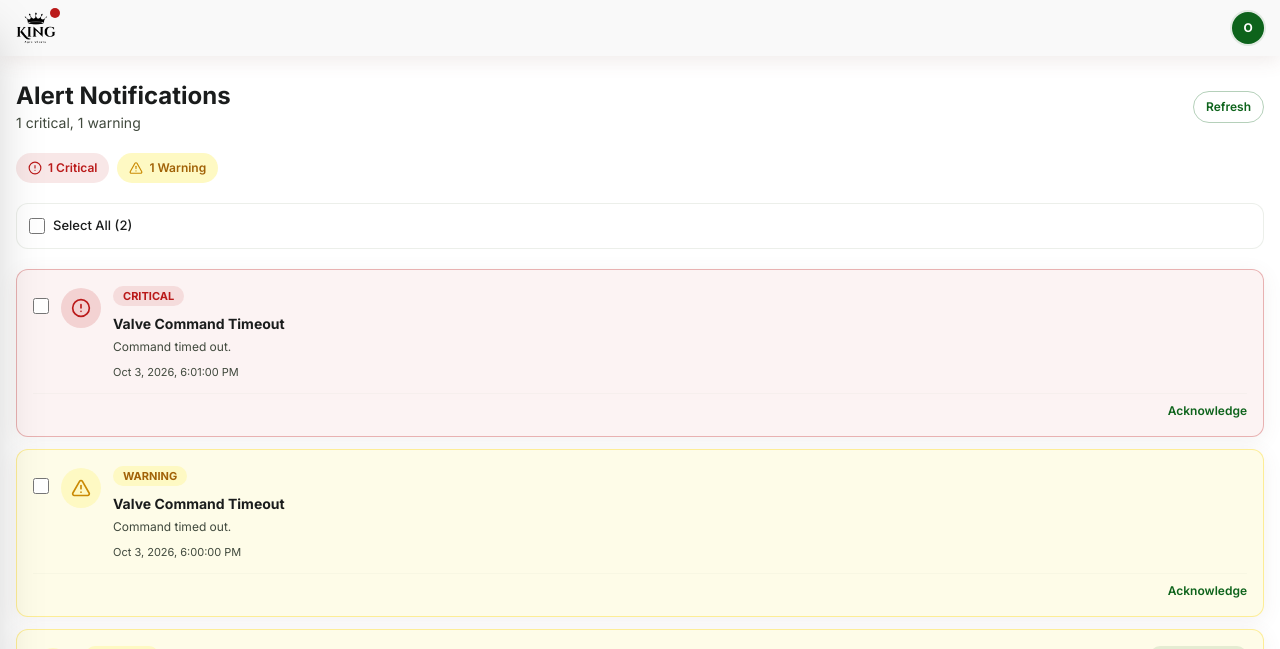
Test: Notifications UI - Bulk Acknowledgement Interactions › selects all open alerts and acknowledges them via bulk acknowledge selected
Expected: the text "1 Critical" is shown, [48,159,97,177]
Expected: the text "1 Warning" is shown, [149,159,206,177]
Toggle select all
Click the checkbox with test id "checkbox-select-all" at {"x": 37, "y": 226}, box [29,218,45,234]
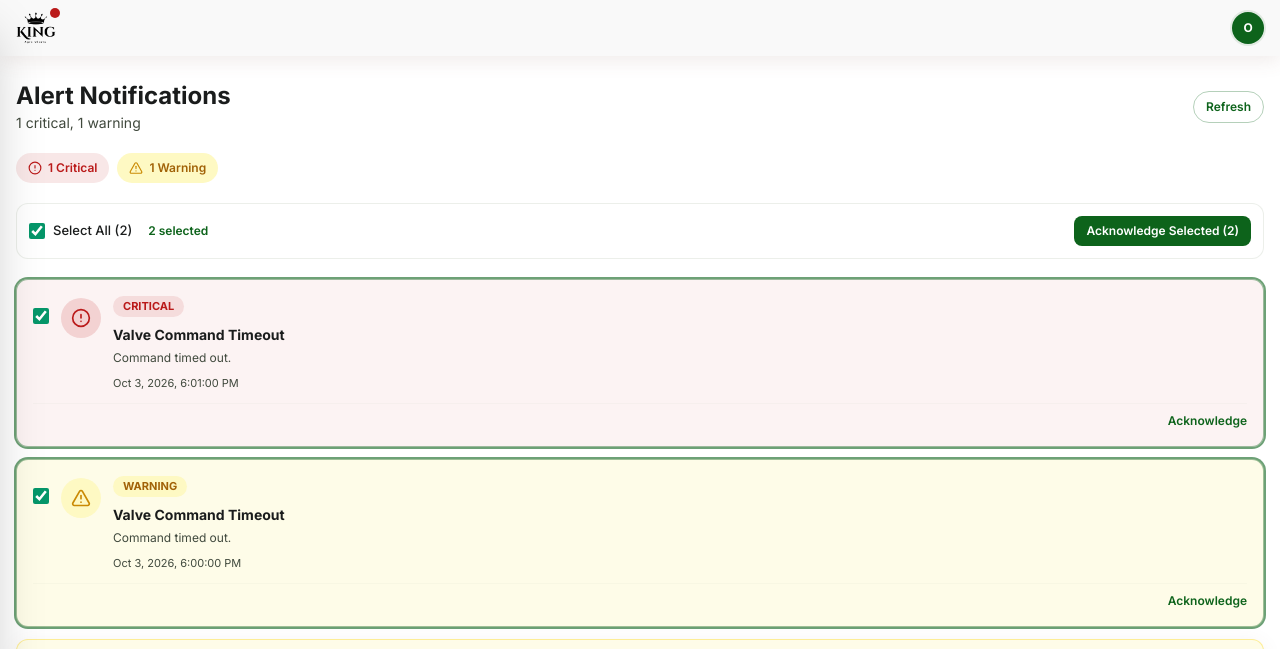
Expected: the checkbox with test id "checkbox-select-all" is checked, [29,223,45,239]
Expected: the text "2 selected" is shown, [148,222,208,240]
Expected: the button with test id "btn-acknowledge-selected" is shown
Click bulk acknowledge selected
Click the button with test id "btn-acknowledge-selected" at {"x": 1163, "y": 231}, box [1074,216,1251,246]
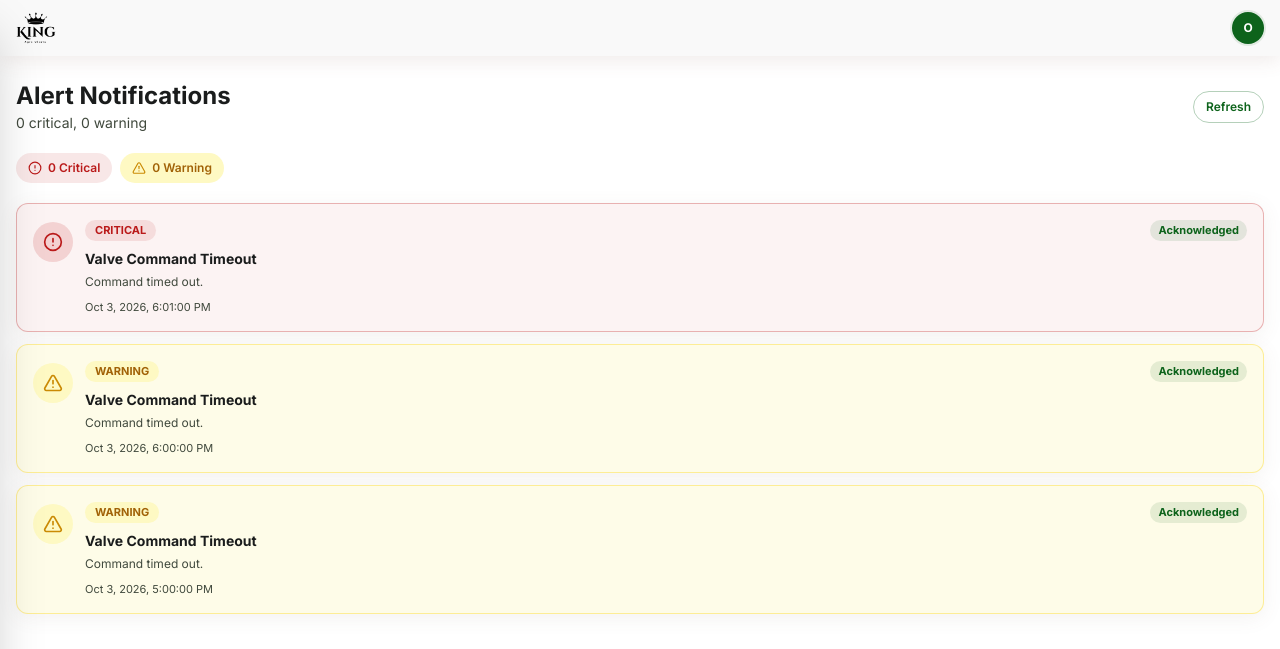
Expected: the text "0 Critical" is shown, [48,159,100,177]
Expected: the text "0 Warning" is shown, [152,159,212,177]
Expected: the checkbox with test id "checkbox-select-all" is gone
